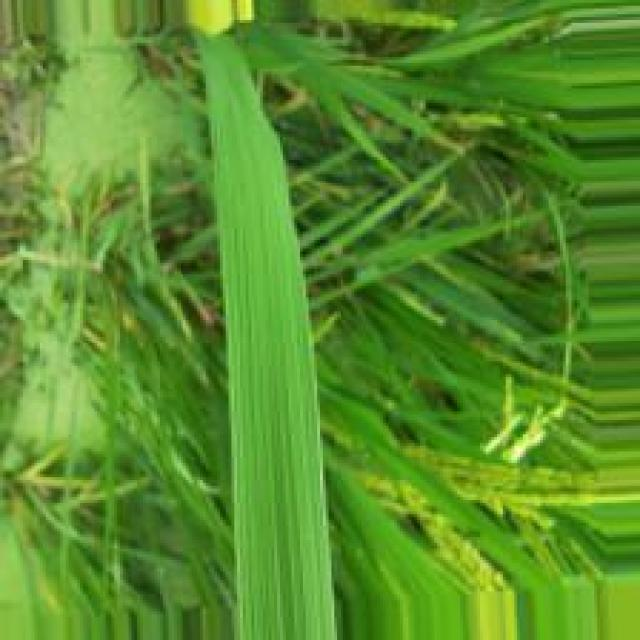HealthyLeaf: (197, 31, 339, 640)
